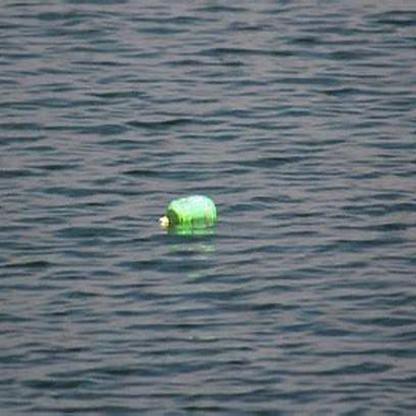plastic bottle: (159, 196, 217, 229)
